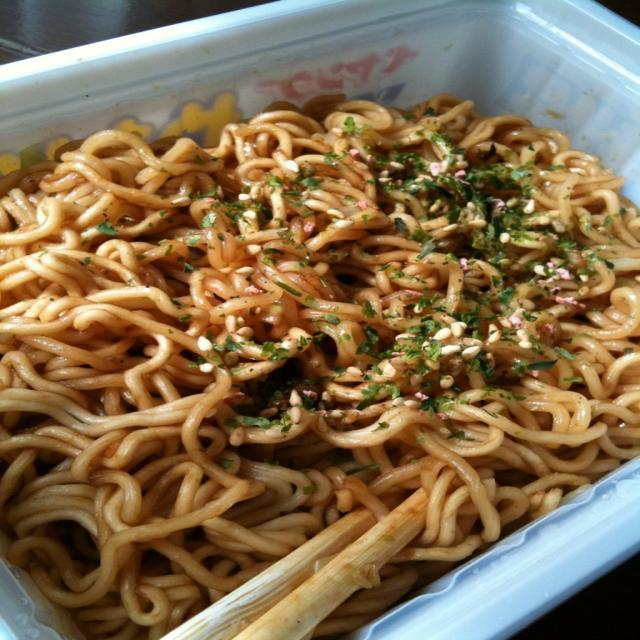Pasta: (0, 101, 638, 634)
